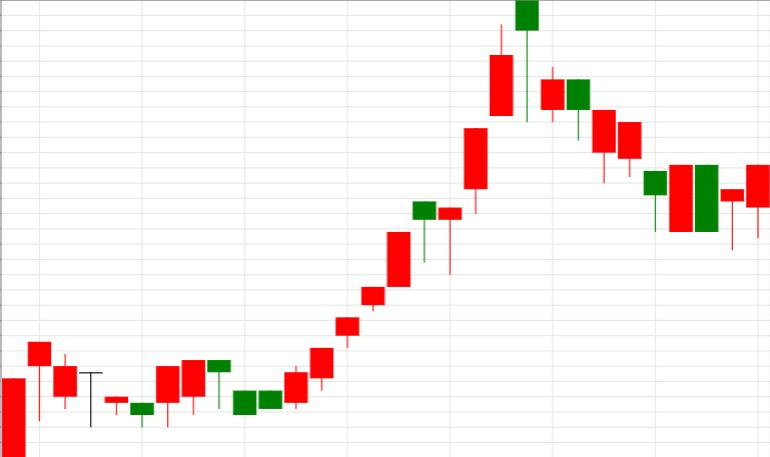hanging_man_fall: (284, 0, 539, 408)
